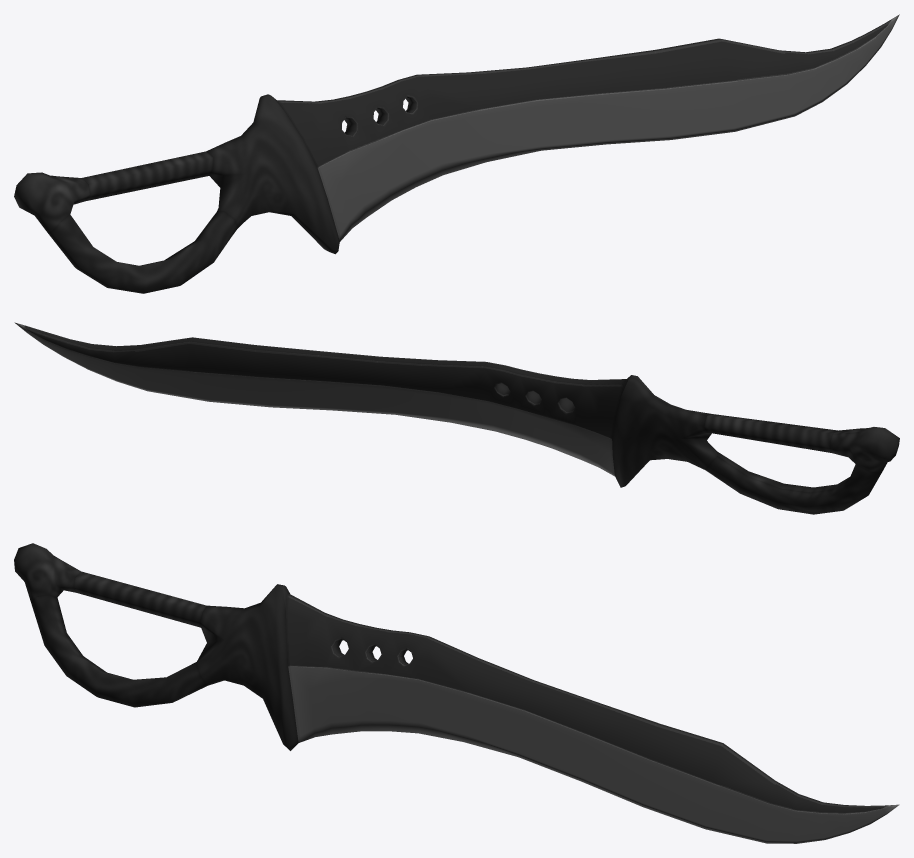
The model's file is Butcher Sword.glb.
3 renders of one model, top to bottom at view 1: azimuth 30°, elevation 25°; view 2: azimuth 150°, elevation 25°; view 3: azimuth 330°, elevation 25°, orthographic. The views are drawn at different scales.
Parts seen in each view (by area): view 1: NANO SWORD.001, NANO SWORD.001_0.001; view 2: NANO SWORD.001, NANO SWORD.001_0.001; view 3: NANO SWORD.001, NANO SWORD.001_0.001.
Part boxes in pixels (x1=…): NANO SWORD.001: x1=272, y1=14, x2=899, y2=241; NANO SWORD.001_0.001: x1=14, y1=94, x2=339, y2=293; NANO SWORD.001: x1=14, y1=322, x2=630, y2=476; NANO SWORD.001_0.001: x1=612, y1=375, x2=899, y2=514; NANO SWORD.001: x1=282, y1=585, x2=899, y2=843; NANO SWORD.001_0.001: x1=14, y1=543, x2=298, y2=750.
Bounding box in the file's own units: 13.45 × 2.07 × 1.39.
Materials: 1 (1 with a texture image).
